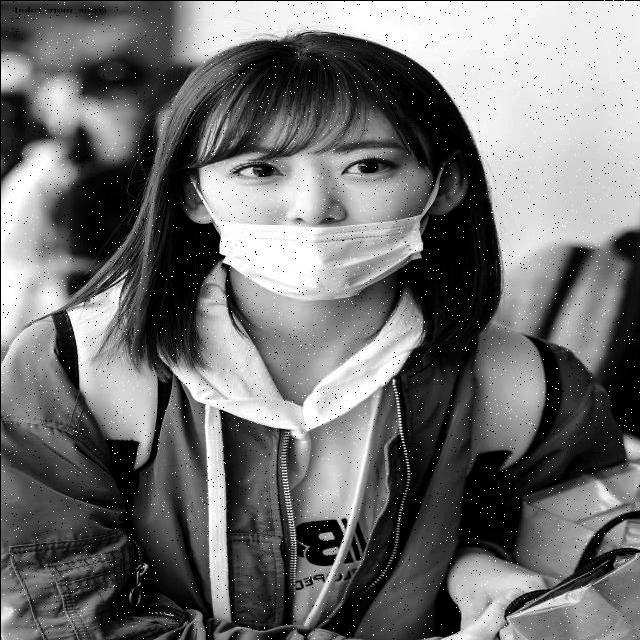no_gloves: (147, 29, 437, 158)
